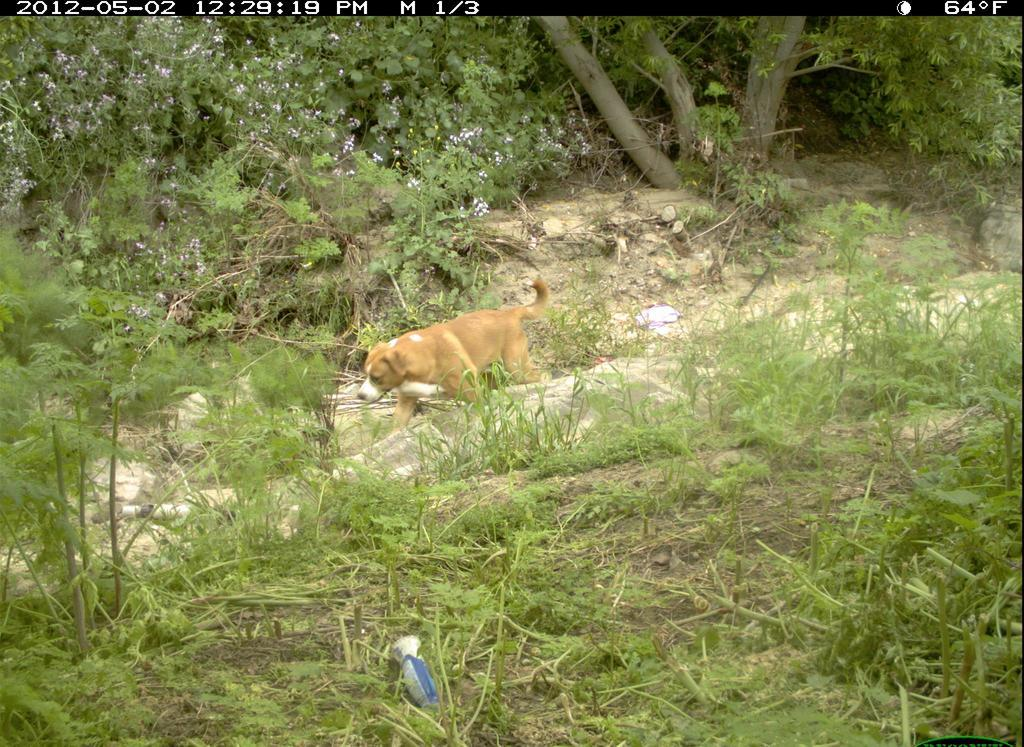dog: (346, 281, 562, 424)
